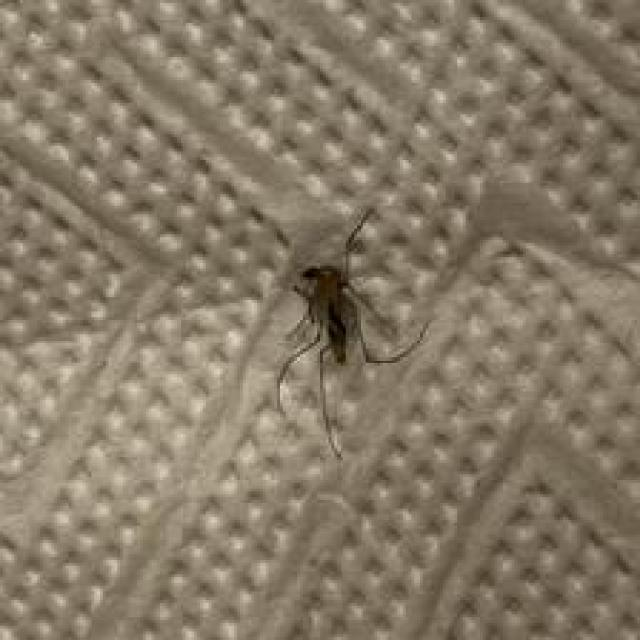Culex: (270, 204, 433, 462)
